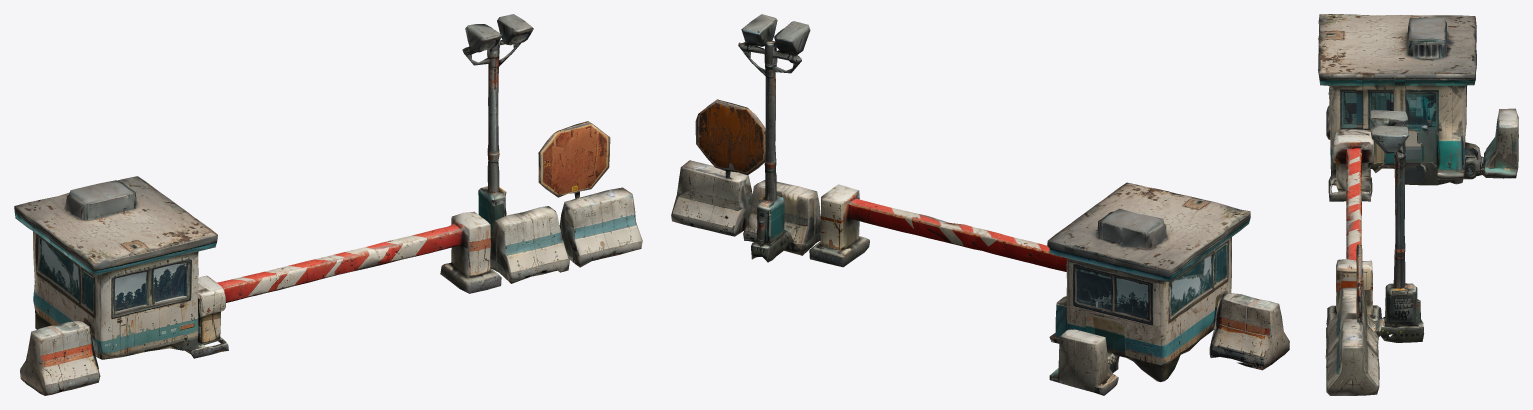
Rendered from EX_Lab_Checkpoint.fbx.
3 views of the same model, side by side, from view 1: azimuth 30°, elevation 25°; view 2: azimuth 150°, elevation 25°; view 3: azimuth 270°, elevation 25° (orthographic). The views are drawn at different scales.
Visible parts, largest first — view 1: texture_mapping; view 2: texture_mapping; view 3: texture_mapping.
Boxes of the visible parts, x1,y1,x2,y2 form: texture_mapping: (14,14,642,395); texture_mapping: (671,14,1289,395); texture_mapping: (1318,14,1518,395).
Size of the model in its own units: 1 by 0.3004 by 0.3724.
Materials: 1 (1 with a texture image).
